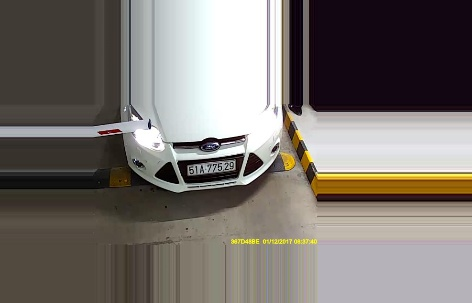plate: (186, 158, 238, 175)
